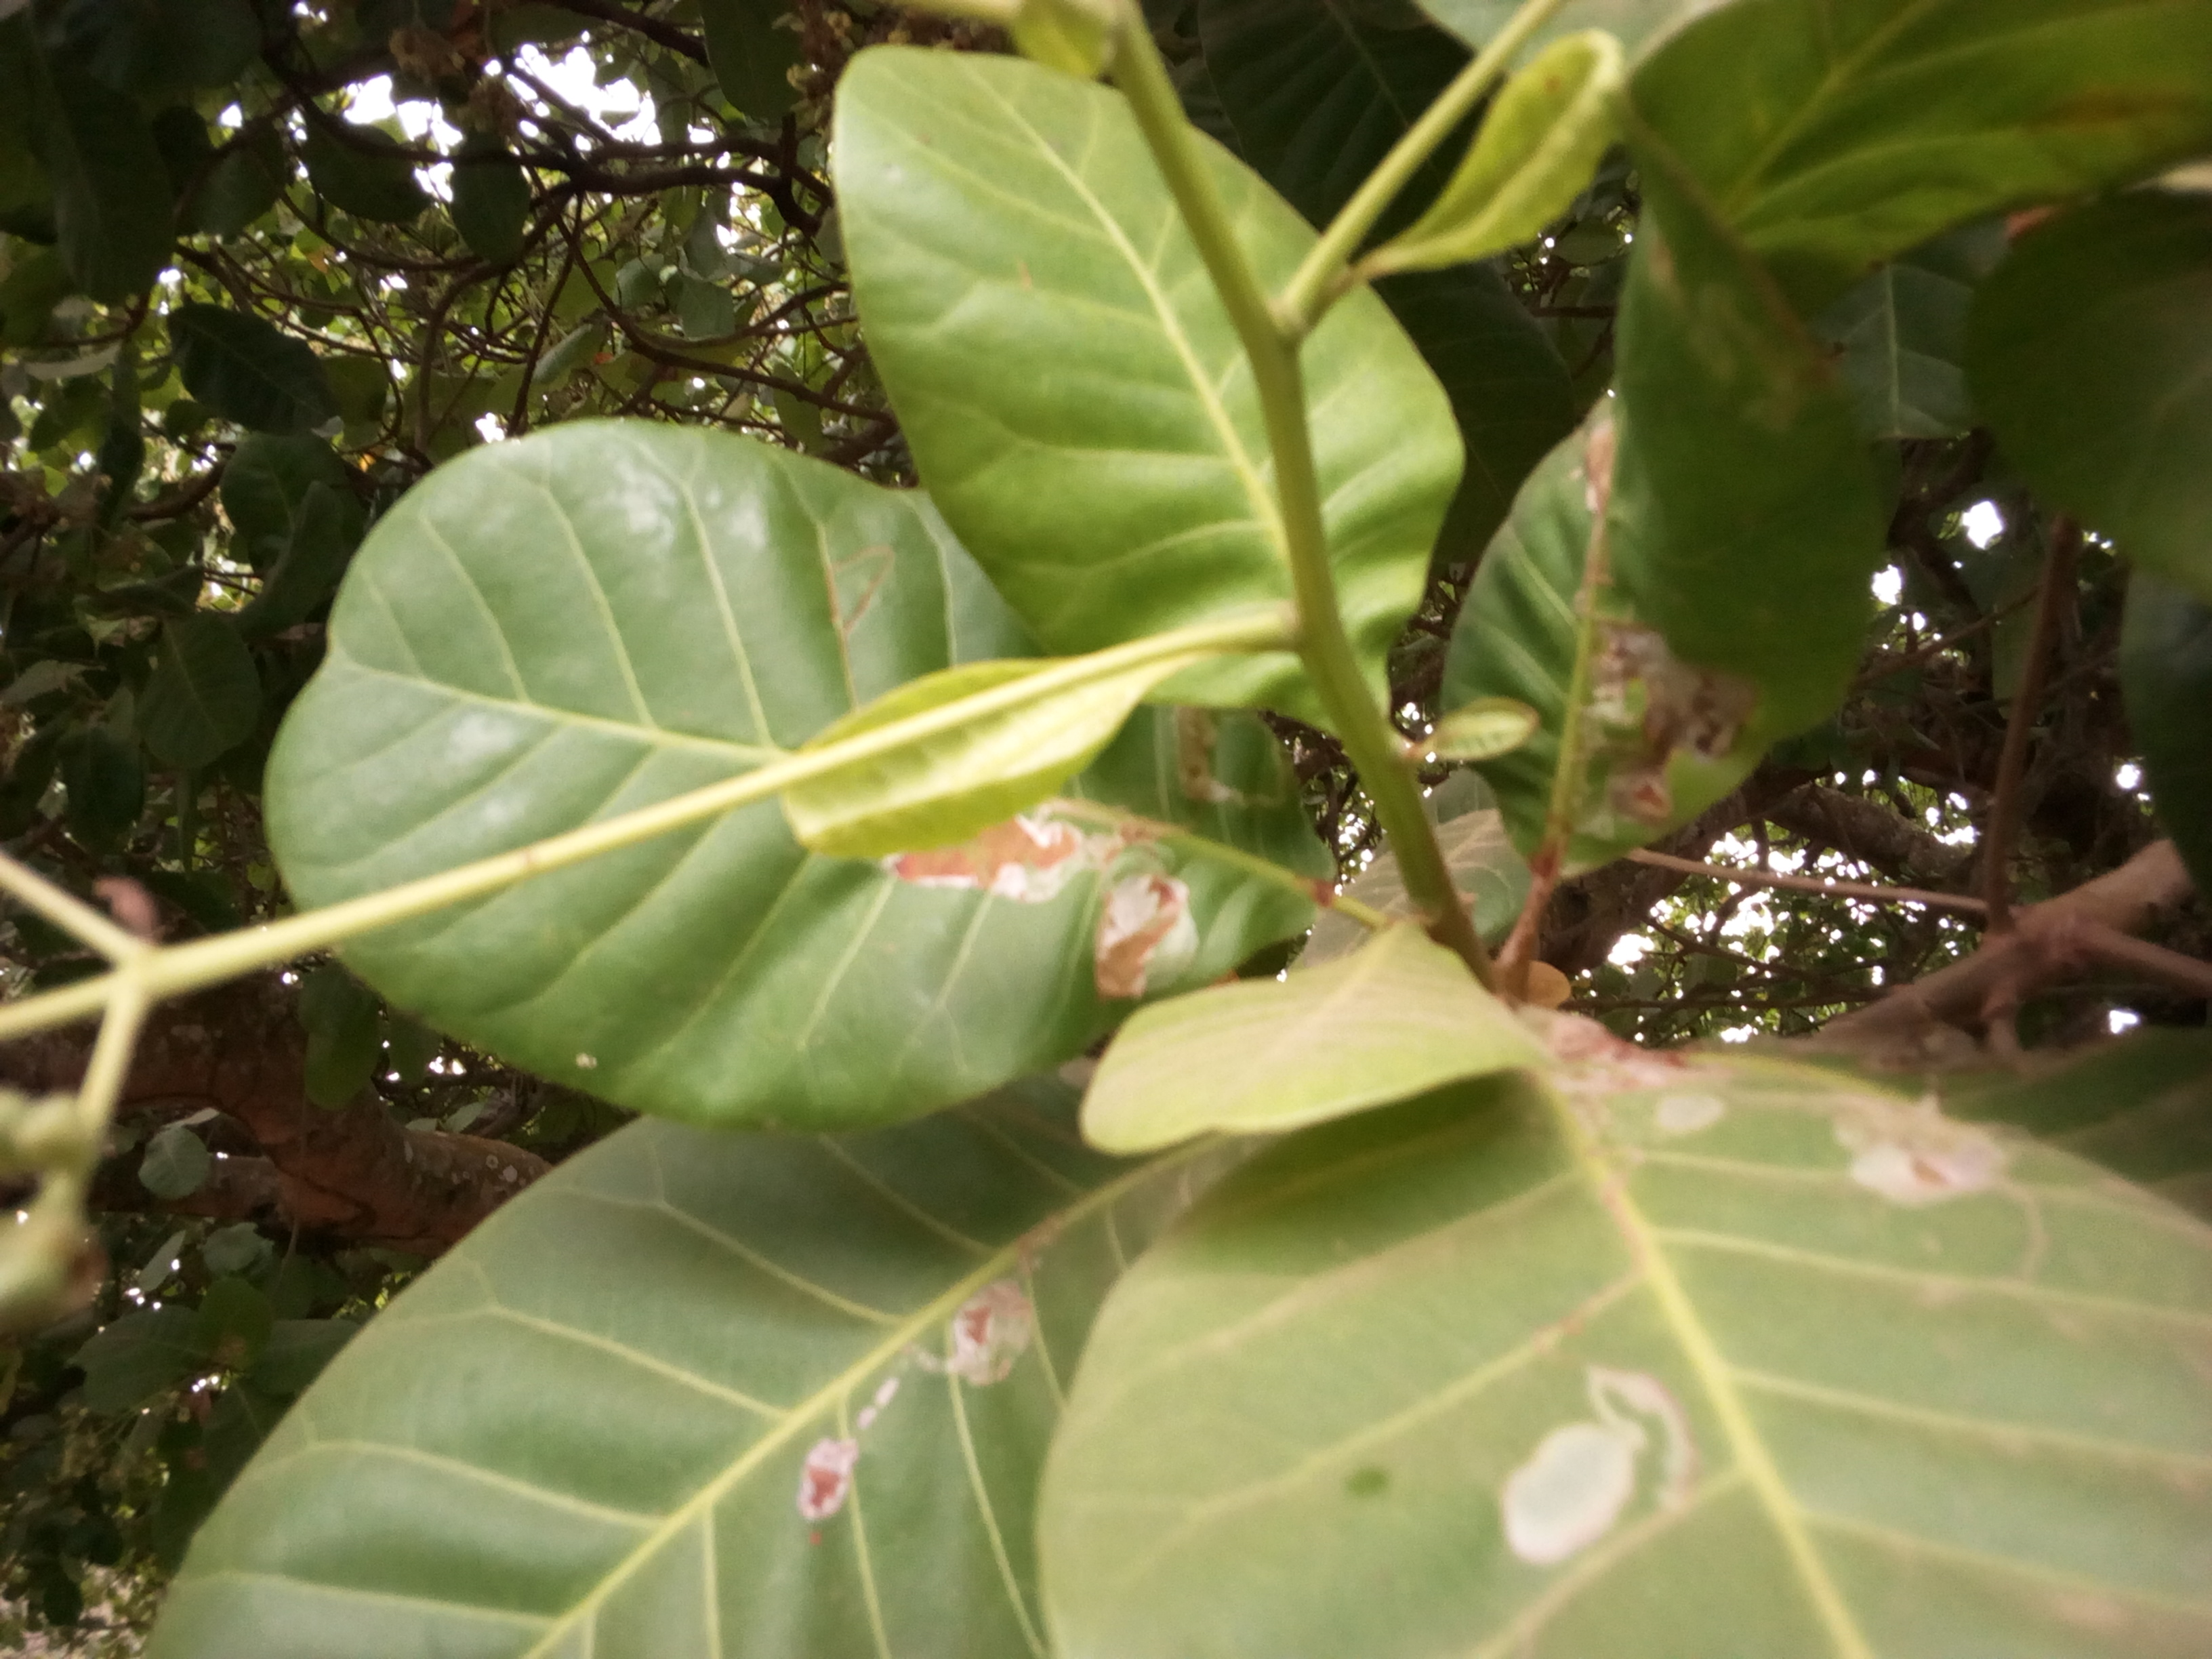Dysdercus wolkerii: (235, 383, 1357, 1108), (1402, 342, 1874, 943)
